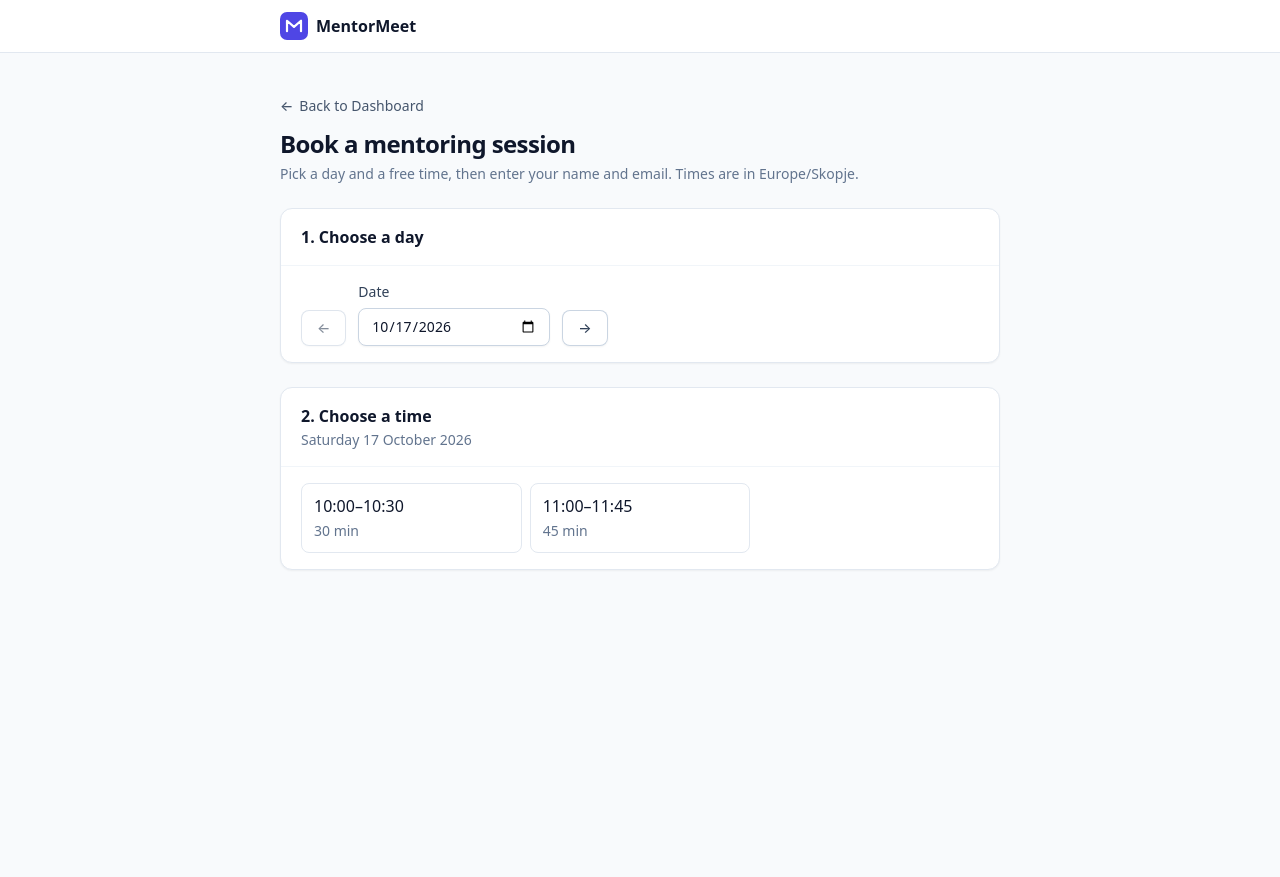
BookingPage › books the selected slot and navigates to the confirmation page
The width and height of the screenshot is (1280, 877).
Click the button "11:00–11:45 45 min": coordinates (640, 518) [530,483,750,553]
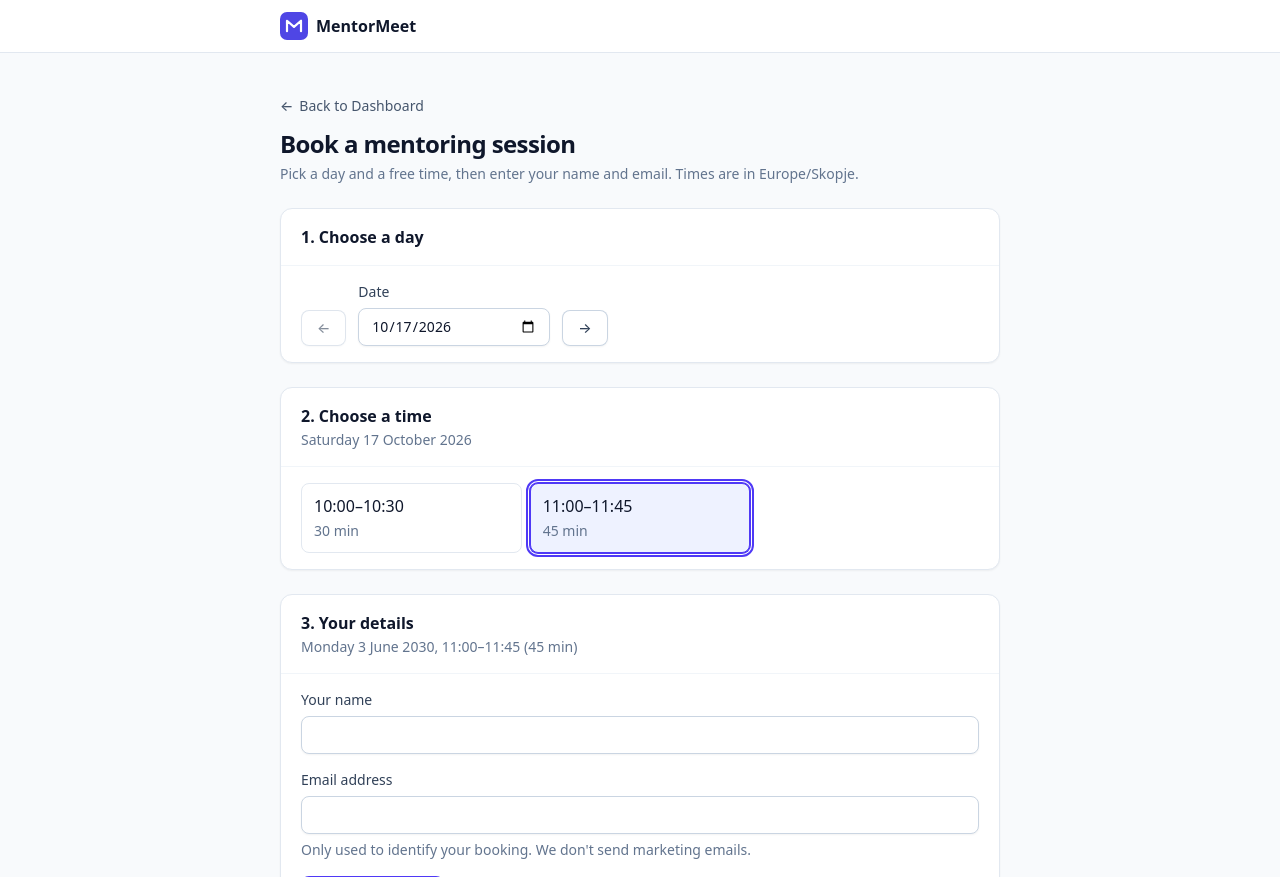
In the field labelled "Your name": coordinates (640, 735) [301,716,979,754], type "Ana Petrova"
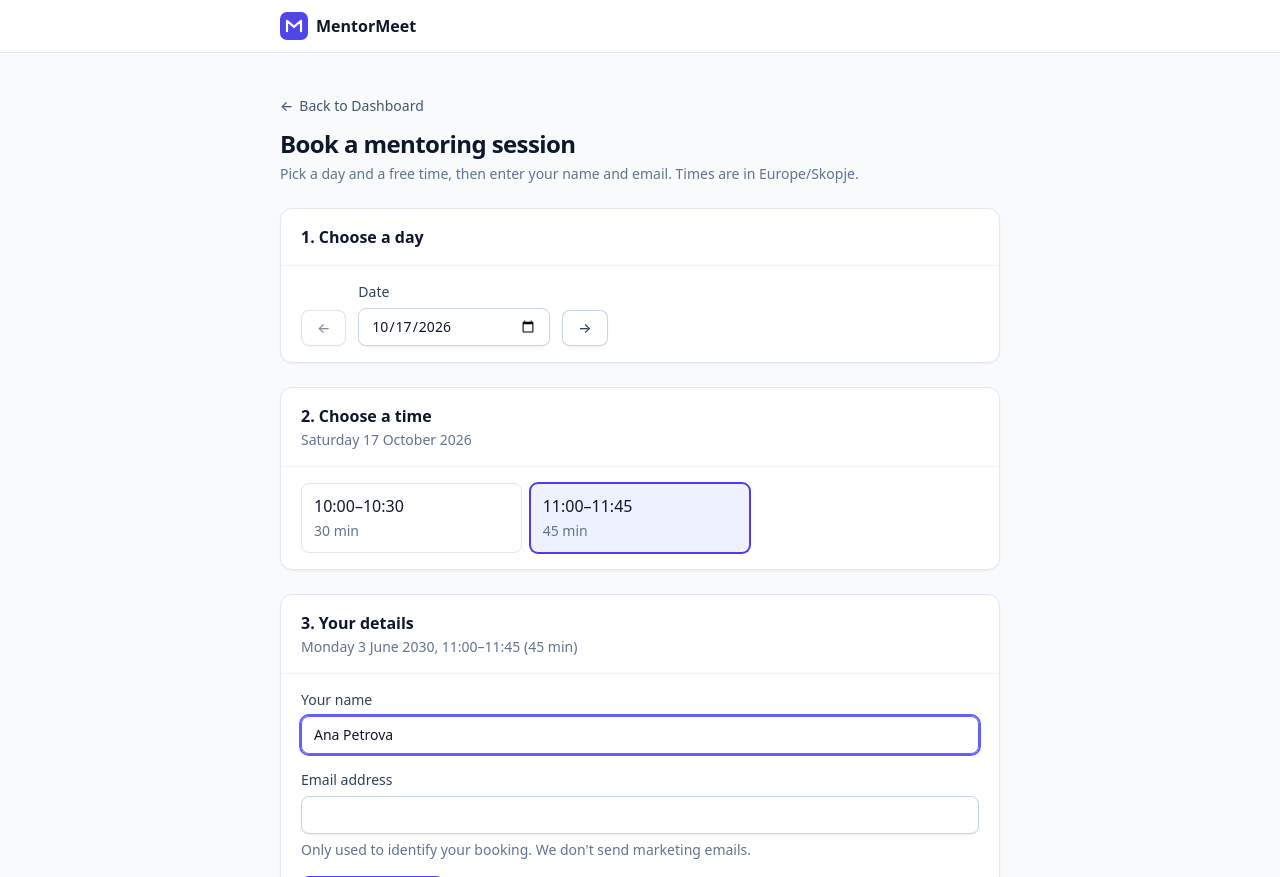
In the field labelled "Email address": coordinates (640, 815) [301,796,979,834], type "ana@example.com"
(page scrolled)
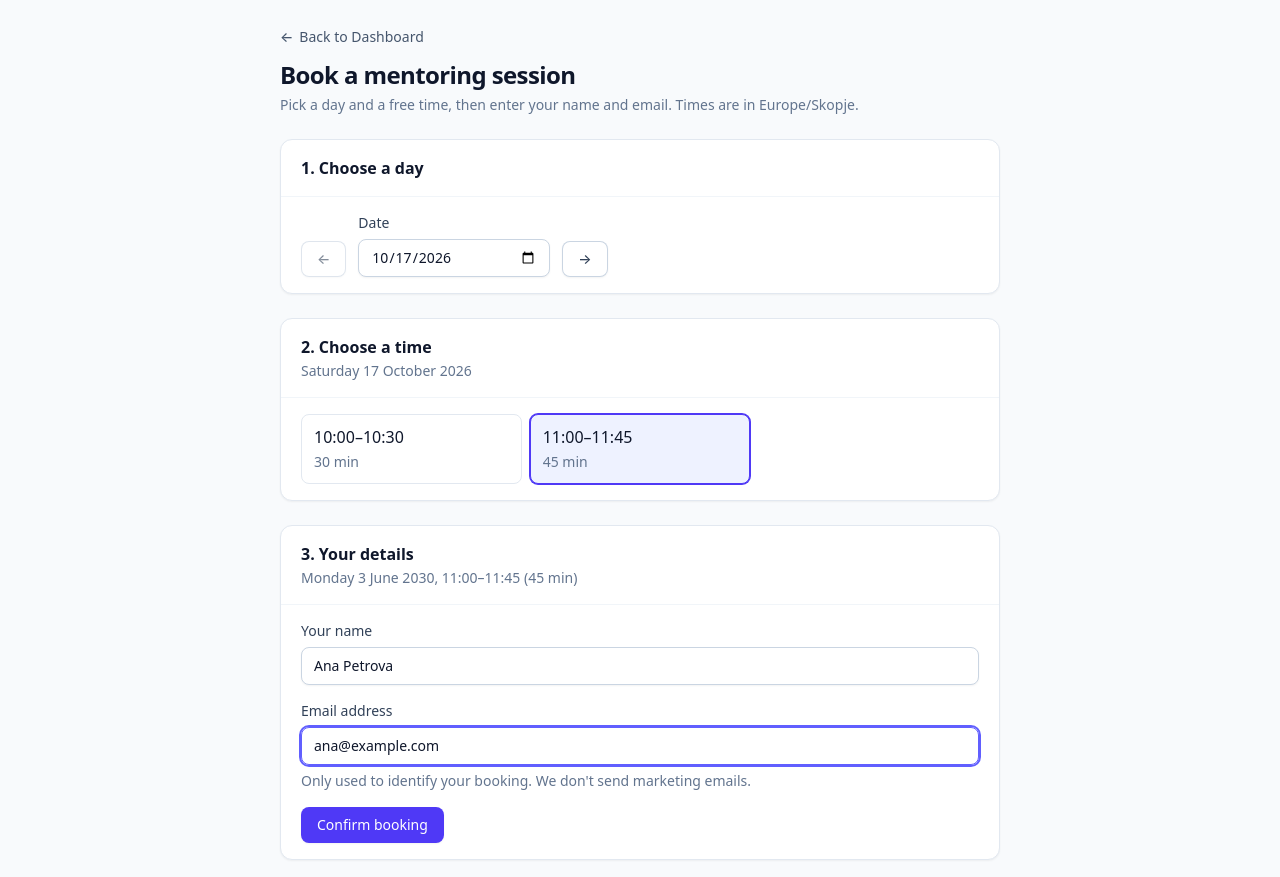
Expected: the button "11:00–11:45 45 min" is pressed, [530,414,750,484]
Click the button "Confirm booking": coordinates (372, 825) [301,807,444,843]
(page scrolled)
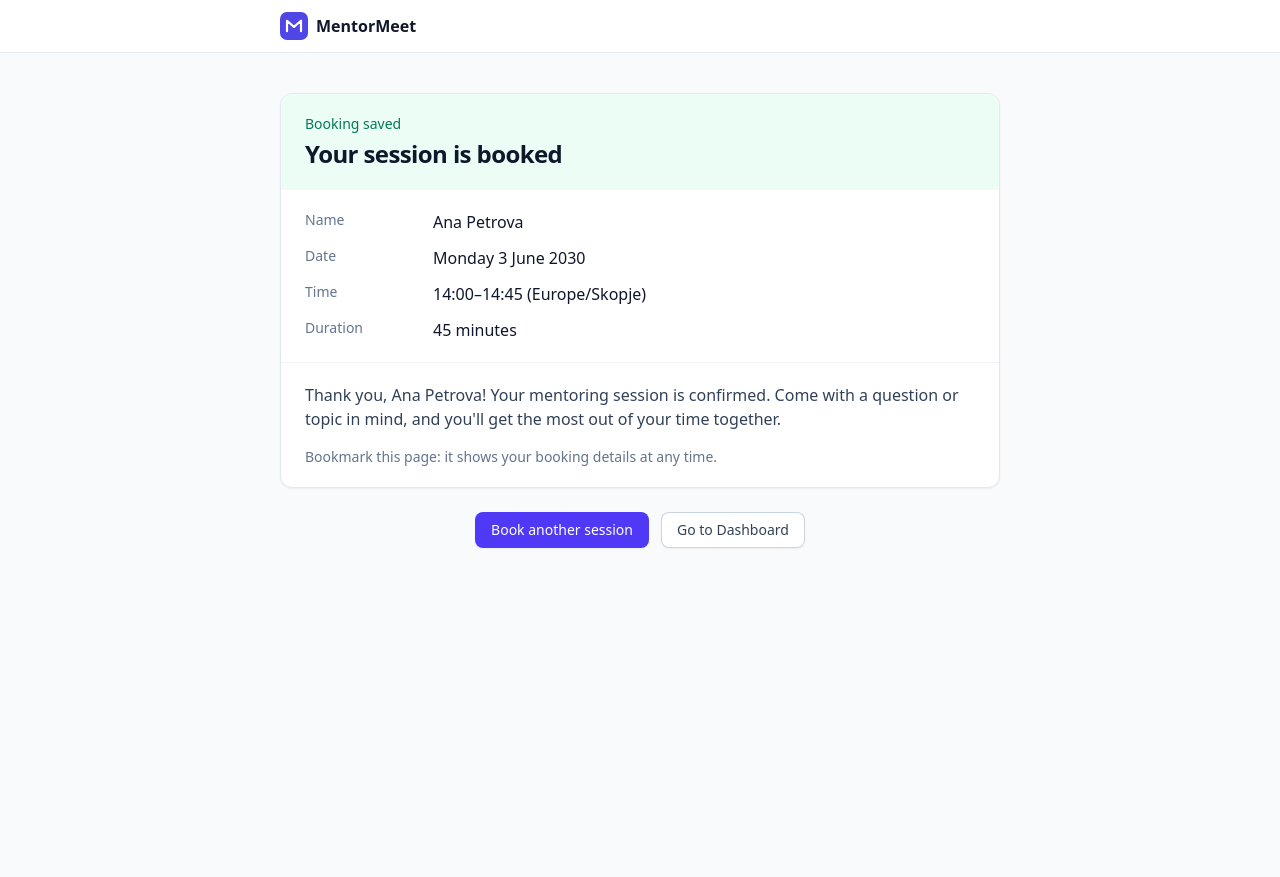
Expected: the heading "Your session is booked" is shown, [305,137,562,170]
